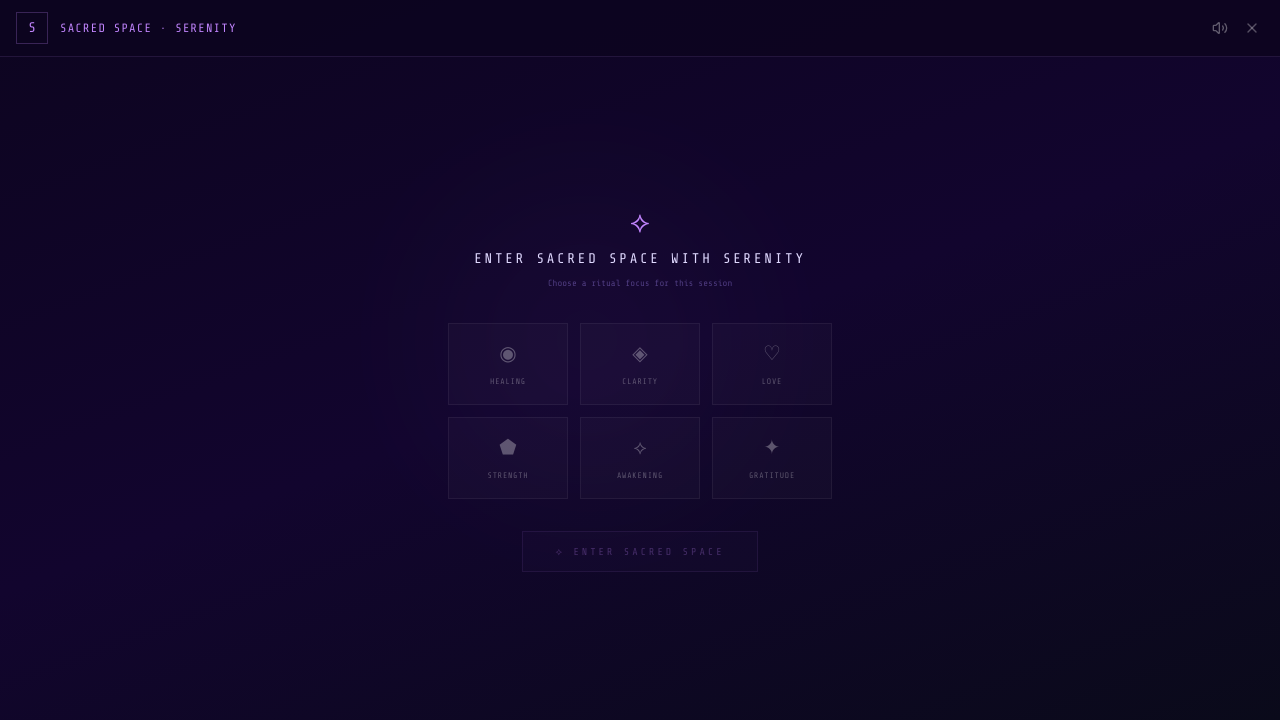
Test: SacredSpaceSession voice › speaks companion lines through the natural voice path
Click the button "◉ Healing" at (508,364), box [448,323,568,405]
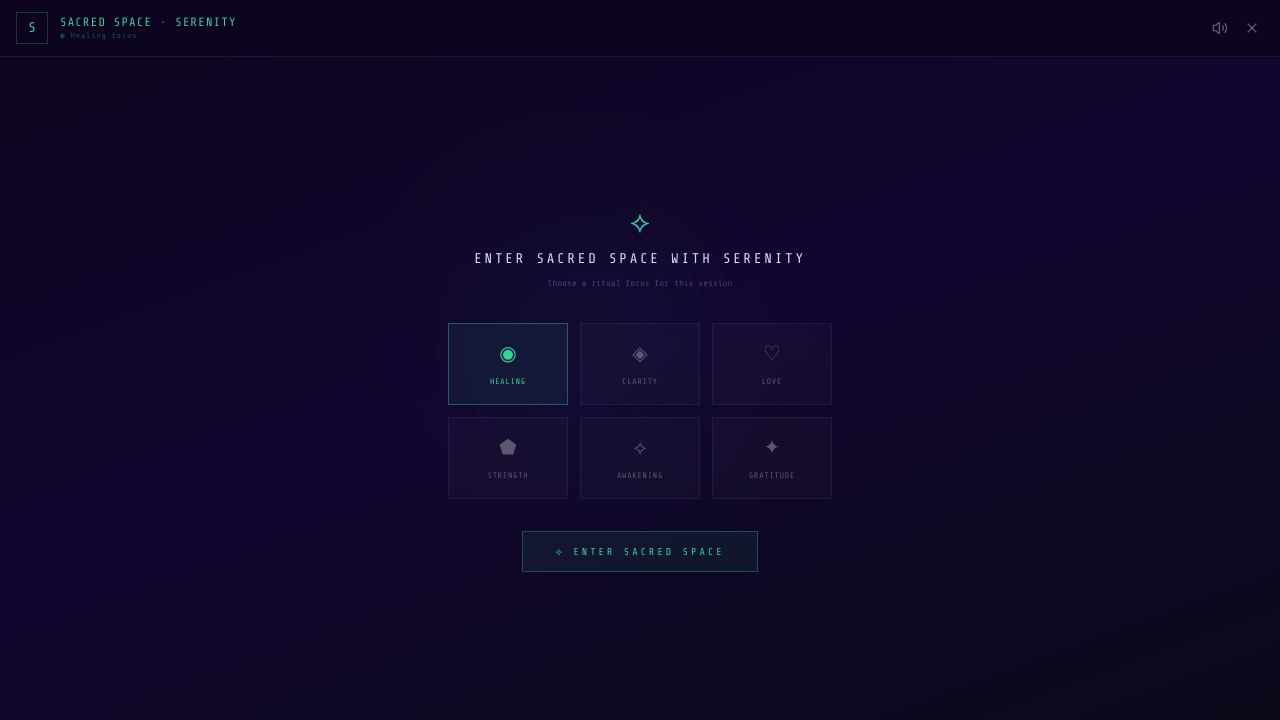
Click the button "⟡ Enter Sacred Space" at (640,551), box [522,531,758,572]
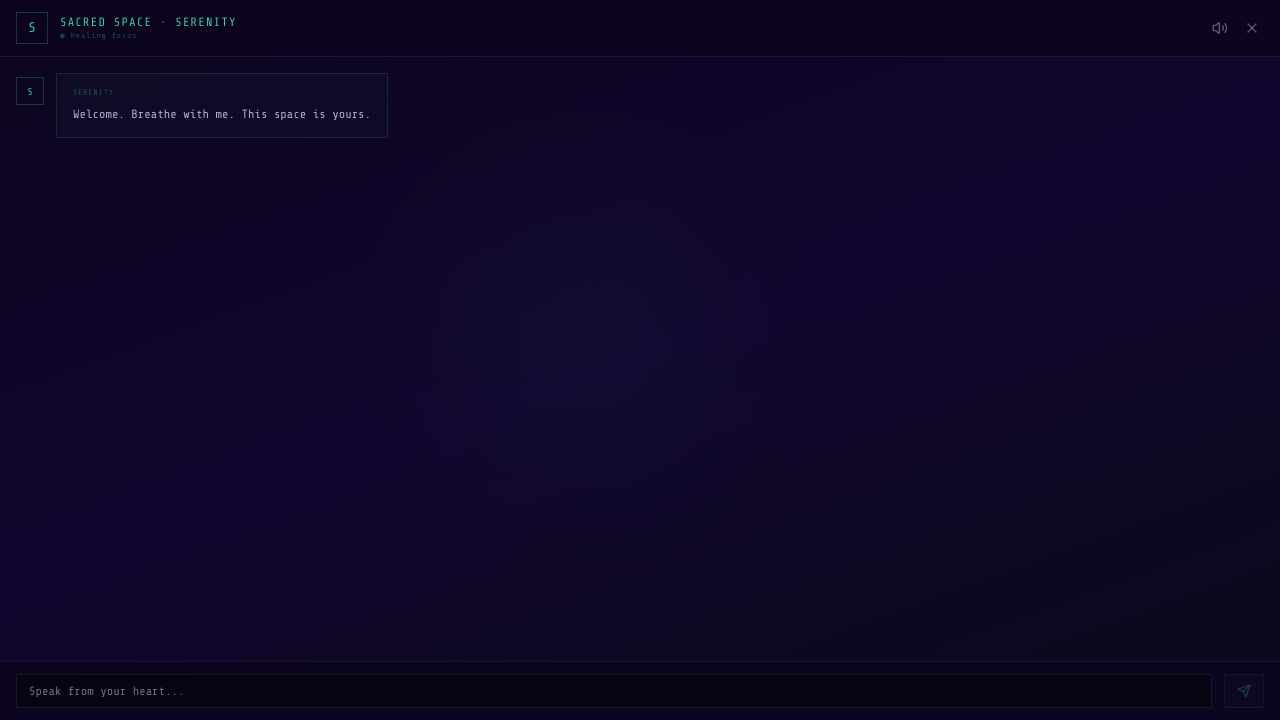
Expected: the button named "Mute Sacred Space voice" is shown, [1208,16,1232,40]
Result: the text "Serenity Welcome. Breathe with me. This space is yours." is shown at [56,73,388,138]
